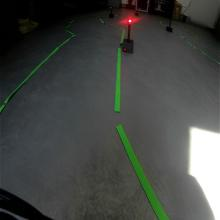red: (128, 18, 132, 26)
